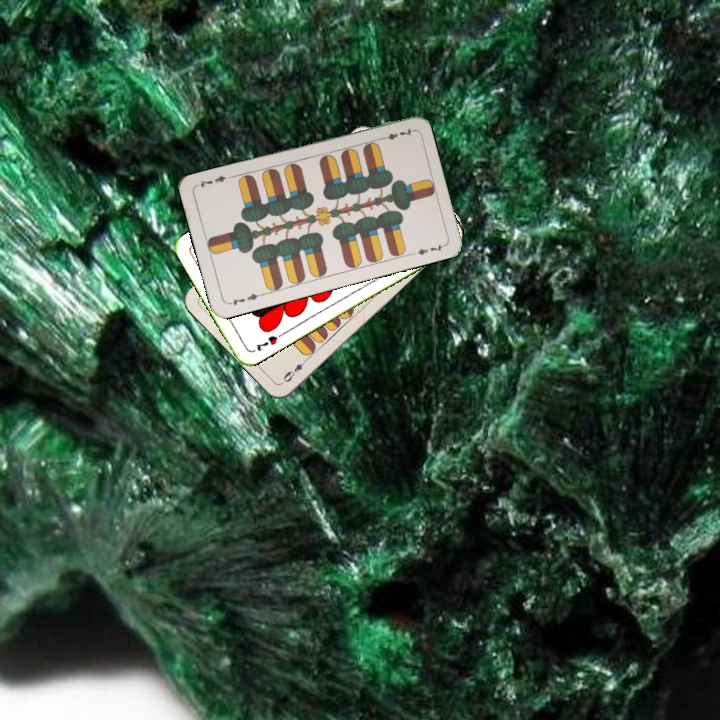E7: (224, 289, 264, 308), (375, 124, 415, 143)
E9: (279, 354, 311, 386)
H7: (252, 332, 280, 354)
